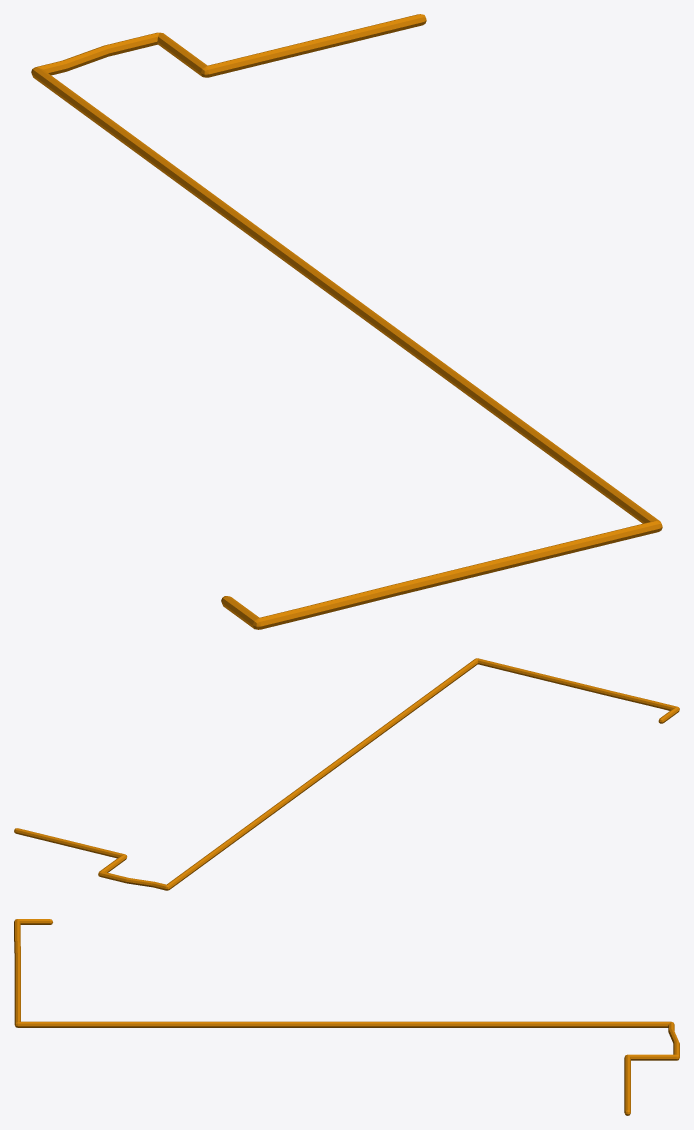
3 renders of one model, top to bottom at view 1: azimuth 30°, elevation 25°; view 2: azimuth 150°, elevation 25°; view 3: azimuth 270°, elevation 25°, orthographic. The views are drawn at different scales.
Size of the model in its own units: 1402 by 20 by 2038.
